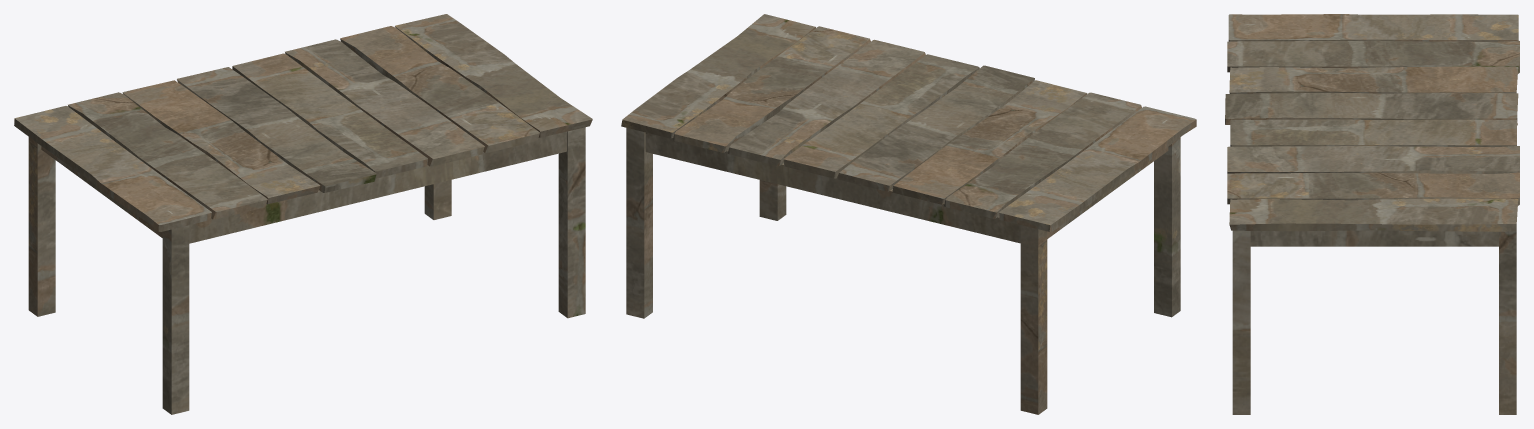
The model's file is table.fbx.
3 views of the same model, side by side, from view 1: azimuth 30°, elevation 25°; view 2: azimuth 150°, elevation 25°; view 3: azimuth 270°, elevation 25° (orthographic).
Parts seen in each view (by area): view 1: Cube.376; view 2: Cube.376; view 3: Cube.376.
Part boxes in pixels (box(x1,y1,x2,y2)): Cube.376: box(14, 14, 592, 414); Cube.376: box(621, 14, 1196, 414); Cube.376: box(1225, 14, 1519, 414).
Size of the model in its own units: 152 by 65.11 by 90.04.
